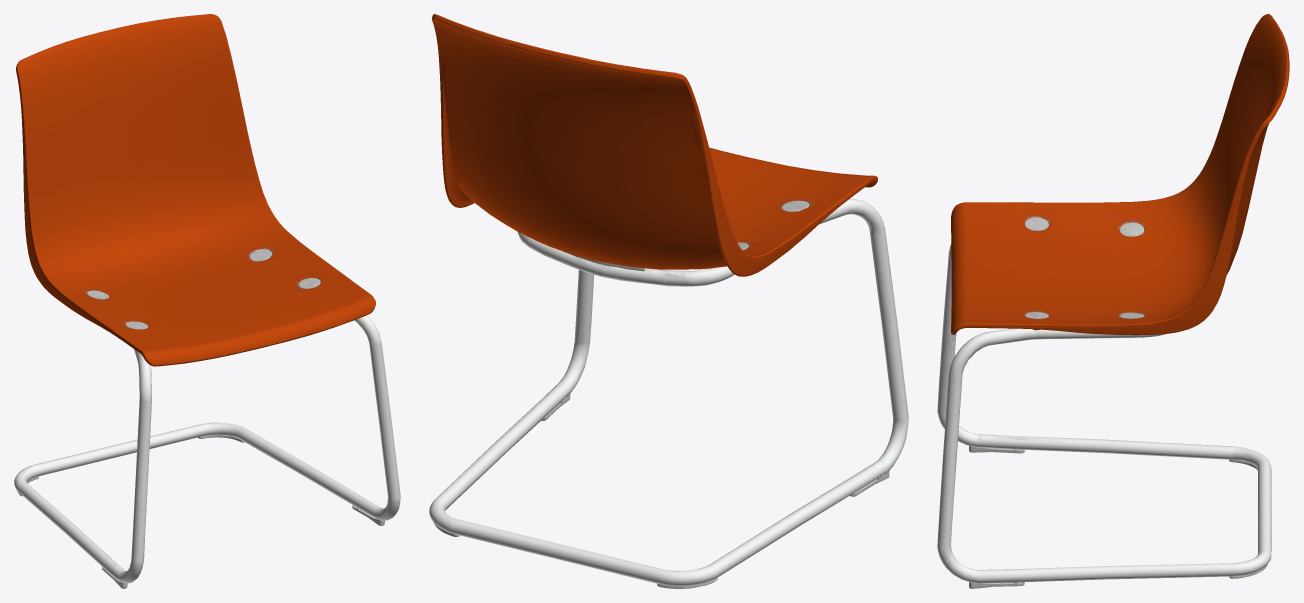
Rendered from 22 - TOBIAS - 餐椅, 棕紅色鍍鉻 IKEA 線上購物.glb.
3 renders of one model, left to right at view 1: azimuth 30°, elevation 25°; view 2: azimuth 150°, elevation 25°; view 3: azimuth 270°, elevation 25°, orthographic. The views are drawn at different scales.
Parts seen in each view (by area): view 1: Mesh_1, Mesh_0; view 2: Mesh_1, Mesh_0; view 3: Mesh_1, Mesh_0.
Boxes of the visible parts, left/top/right/bottom form: Mesh_1: left=16, top=14, right=375, bottom=366; Mesh_0: left=14, top=249, right=400, bottom=588; Mesh_1: left=431, top=14, right=877, bottom=276; Mesh_0: left=429, top=198, right=908, bottom=588; Mesh_1: left=951, top=14, right=1289, bottom=335; Mesh_0: left=937, top=217, right=1271, bottom=588.
Bounding box in the file's own units: 0.5476 × 0.8188 × 0.5734.
Materials: 2 (2 with a texture image).
